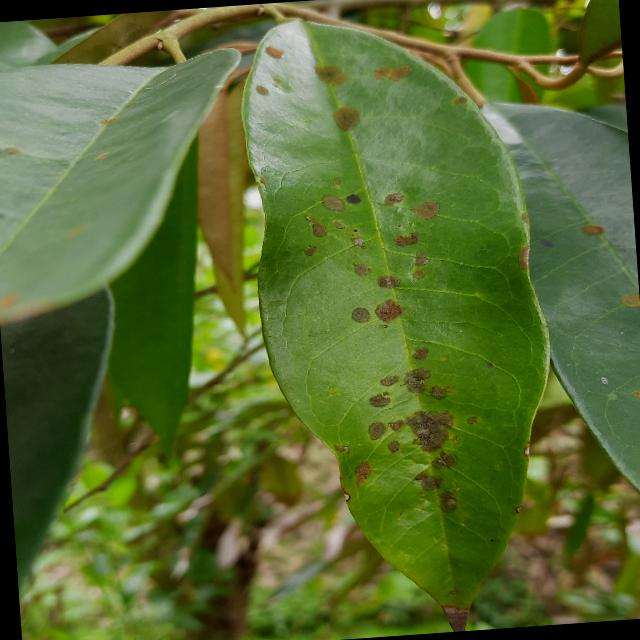Algal Leaf Spot: (227, 0, 572, 639)
